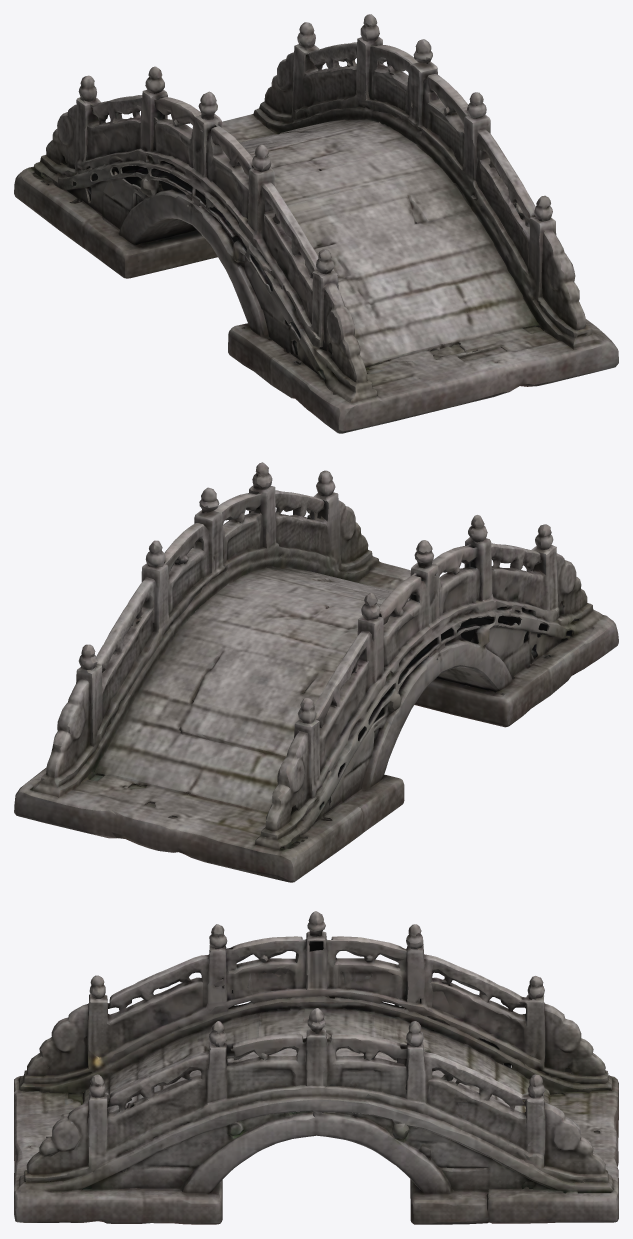
File: ARCH-010.glb
3 views of the same model, one above another, from view 1: azimuth 30°, elevation 25°; view 2: azimuth 150°, elevation 25°; view 3: azimuth 270°, elevation 25° (orthographic). The views are drawn at different scales.
Parts seen in each view (by area): view 1: world; view 2: world; view 3: world.
Part boxes in pixels (bbox=[...]): world: bbox=[14, 14, 618, 433]; world: bbox=[14, 462, 618, 882]; world: bbox=[14, 911, 618, 1224].
Size of the model in its own units: 0.45 by 0.3427 by 0.9042.
1 material, 1 textured.
